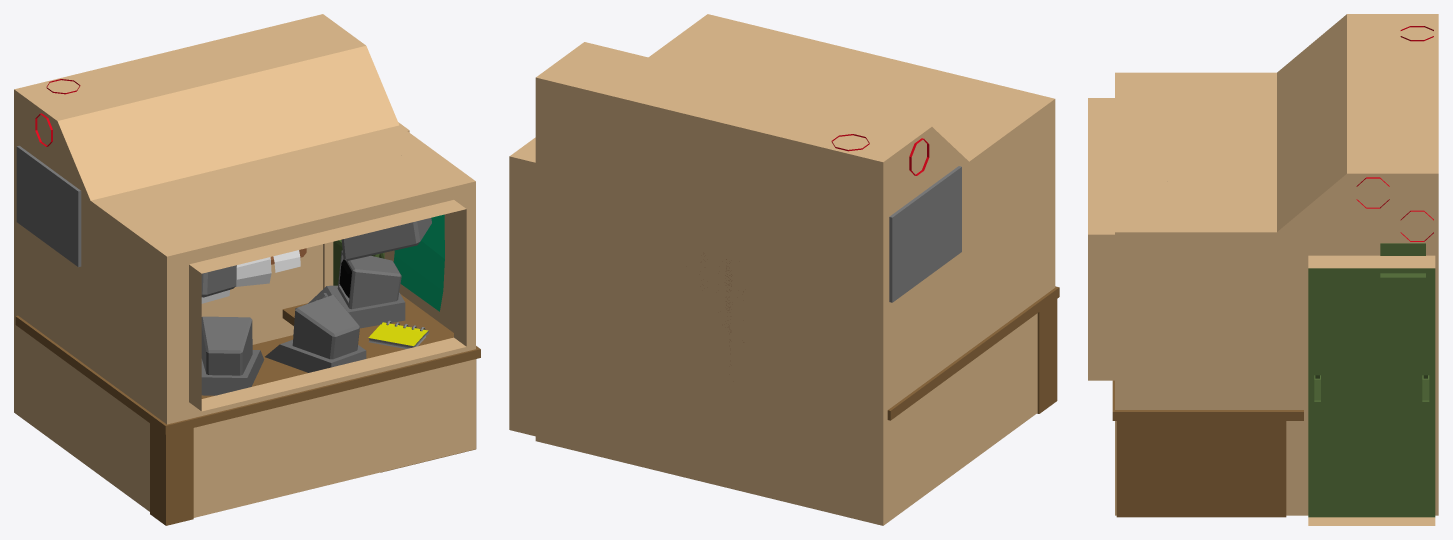
File: ControlRoom.fbx
3 renders of one model, left to right at view 1: azimuth 30°, elevation 25°; view 2: azimuth 150°, elevation 25°; view 3: azimuth 270°, elevation 25°, orthographic. The views are drawn at different scales.
Parts seen in each view (by area): view 1: RoomBoundaries, Table, Vent, Monitor2, Monitor1, Monitor3, Poster2, CeilingMonitor2, Binder1, Paper5, CeilingMonitor1; view 2: RoomBoundaries, Vent, Table; view 3: RoomBoundaries, Door, Table.
Part boxes in pixels (x1,y1,x2,y2): RoomBoundaries: [14, 14, 475, 517]; Table: [15, 294, 480, 525]; Vent: [16, 145, 81, 267]; Monitor2: [265, 295, 366, 372]; Monitor1: [308, 250, 405, 328]; Monitor3: [201, 316, 264, 395]; Poster2: [393, 214, 444, 311]; CeilingMonitor2: [341, 218, 431, 260]; Binder1: [368, 320, 428, 348]; Paper5: [235, 257, 271, 286]; CeilingMonitor1: [201, 265, 236, 297]; RoomBoundaries: [509, 14, 1055, 525]; Vent: [889, 166, 961, 302]; Table: [887, 286, 1059, 420]; RoomBoundaries: [1088, 14, 1438, 525]; Door: [1308, 243, 1435, 517]; Table: [1112, 380, 1303, 517].
Bounding box in the file's own units: 286 × 264 × 244.
